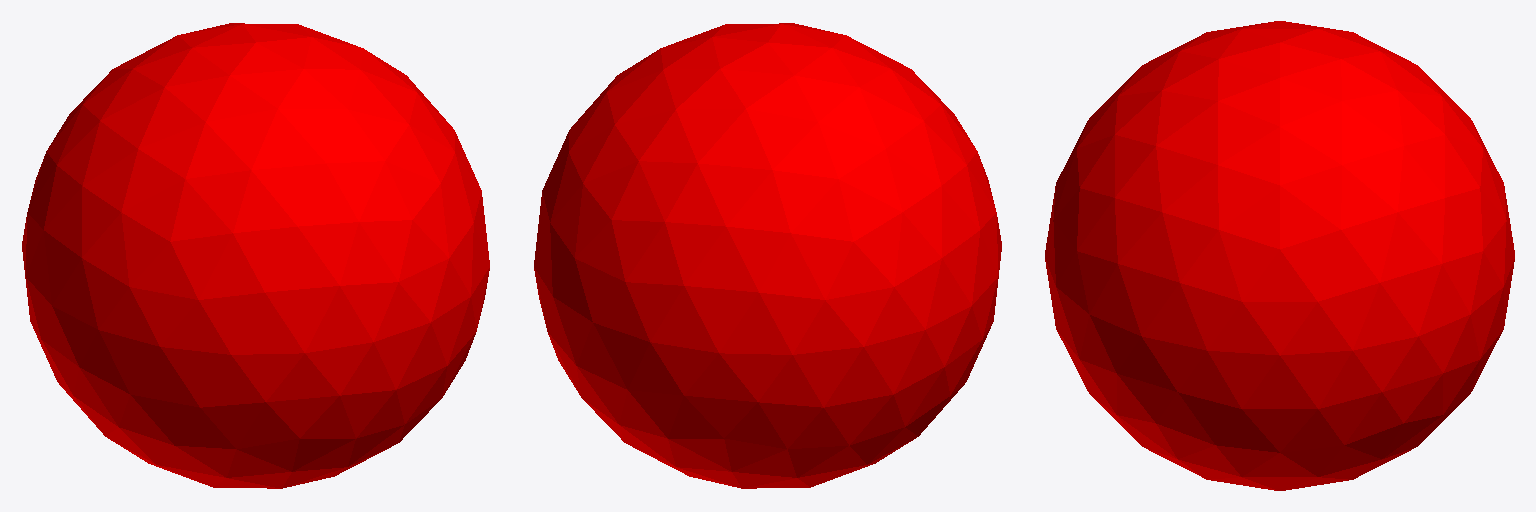
Rendered from mid_poly_sphere_no_outline.obj.
3 views of the same model, side by side, from view 1: azimuth 30°, elevation 25°; view 2: azimuth 150°, elevation 25°; view 3: azimuth 270°, elevation 25° (orthographic).
Parts seen in each view (by area): view 1: core; view 2: core; view 3: core.
Part boxes in pixels (bbox=[...]): core: bbox=[22, 23, 489, 488]; core: bbox=[534, 23, 1001, 488]; core: bbox=[1045, 21, 1514, 490].
Bounding box in the file's own units: 1.94 × 1.94 × 1.94.